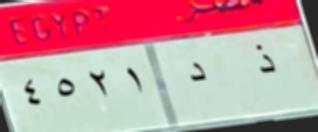1: (120, 60, 150, 96)
2: (84, 66, 112, 100)
4: (20, 75, 44, 115)
5: (53, 72, 80, 104)
daal: (183, 55, 208, 89)
zaal: (247, 41, 279, 80)
